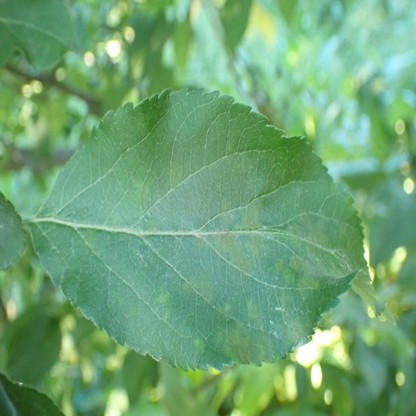powdery_mildew: (252, 262, 286, 339)
scab: (218, 325, 250, 364), (216, 235, 249, 271), (182, 275, 213, 303), (306, 231, 329, 259), (237, 200, 258, 228), (248, 232, 271, 254), (256, 336, 273, 363), (80, 231, 97, 253), (298, 277, 318, 295), (133, 181, 150, 202), (168, 162, 182, 187), (221, 196, 234, 222), (158, 290, 172, 313), (248, 302, 262, 325), (288, 322, 302, 343), (143, 217, 162, 232), (289, 256, 303, 272), (285, 267, 294, 285), (193, 338, 204, 352), (287, 226, 302, 236), (195, 234, 206, 247), (274, 257, 283, 271), (222, 303, 231, 314), (281, 296, 289, 306)
